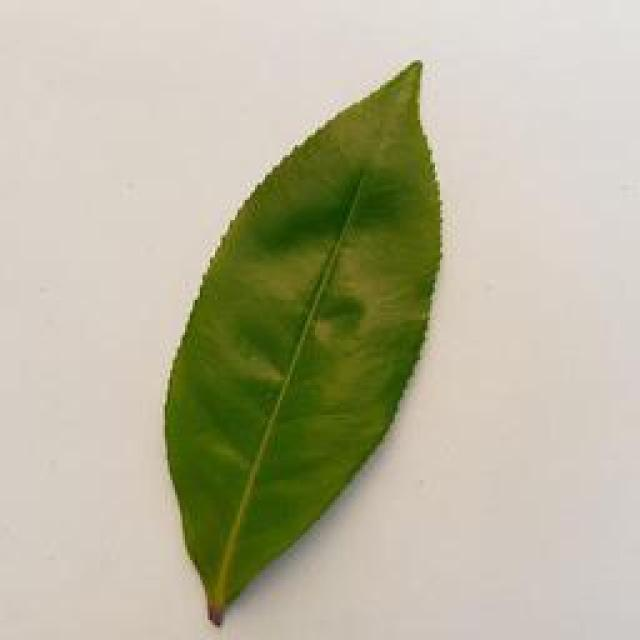Healthy: (153, 64, 451, 623)
